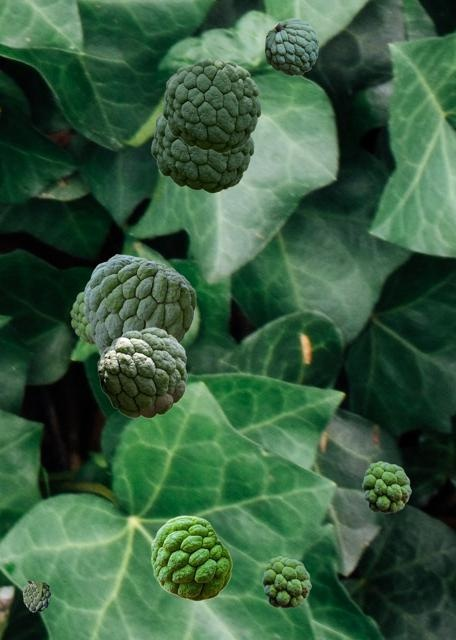atis: (83, 254, 195, 355), (162, 58, 260, 152), (151, 112, 253, 192), (97, 327, 186, 417), (151, 515, 231, 600), (265, 18, 317, 74), (362, 461, 410, 512), (262, 556, 310, 607), (22, 581, 65, 611), (70, 291, 94, 343)
